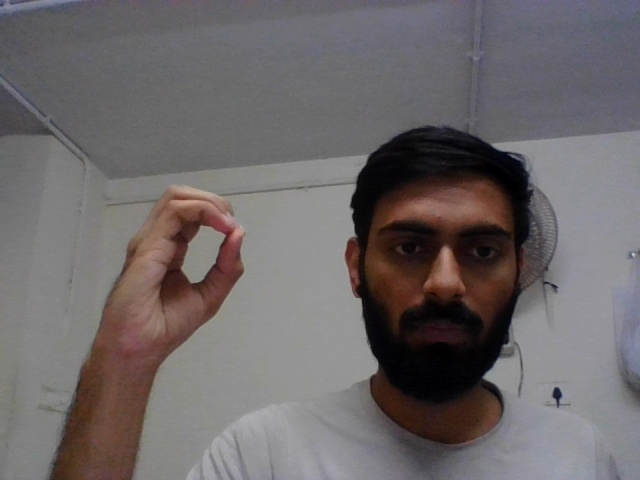O: (87, 178, 248, 373)
